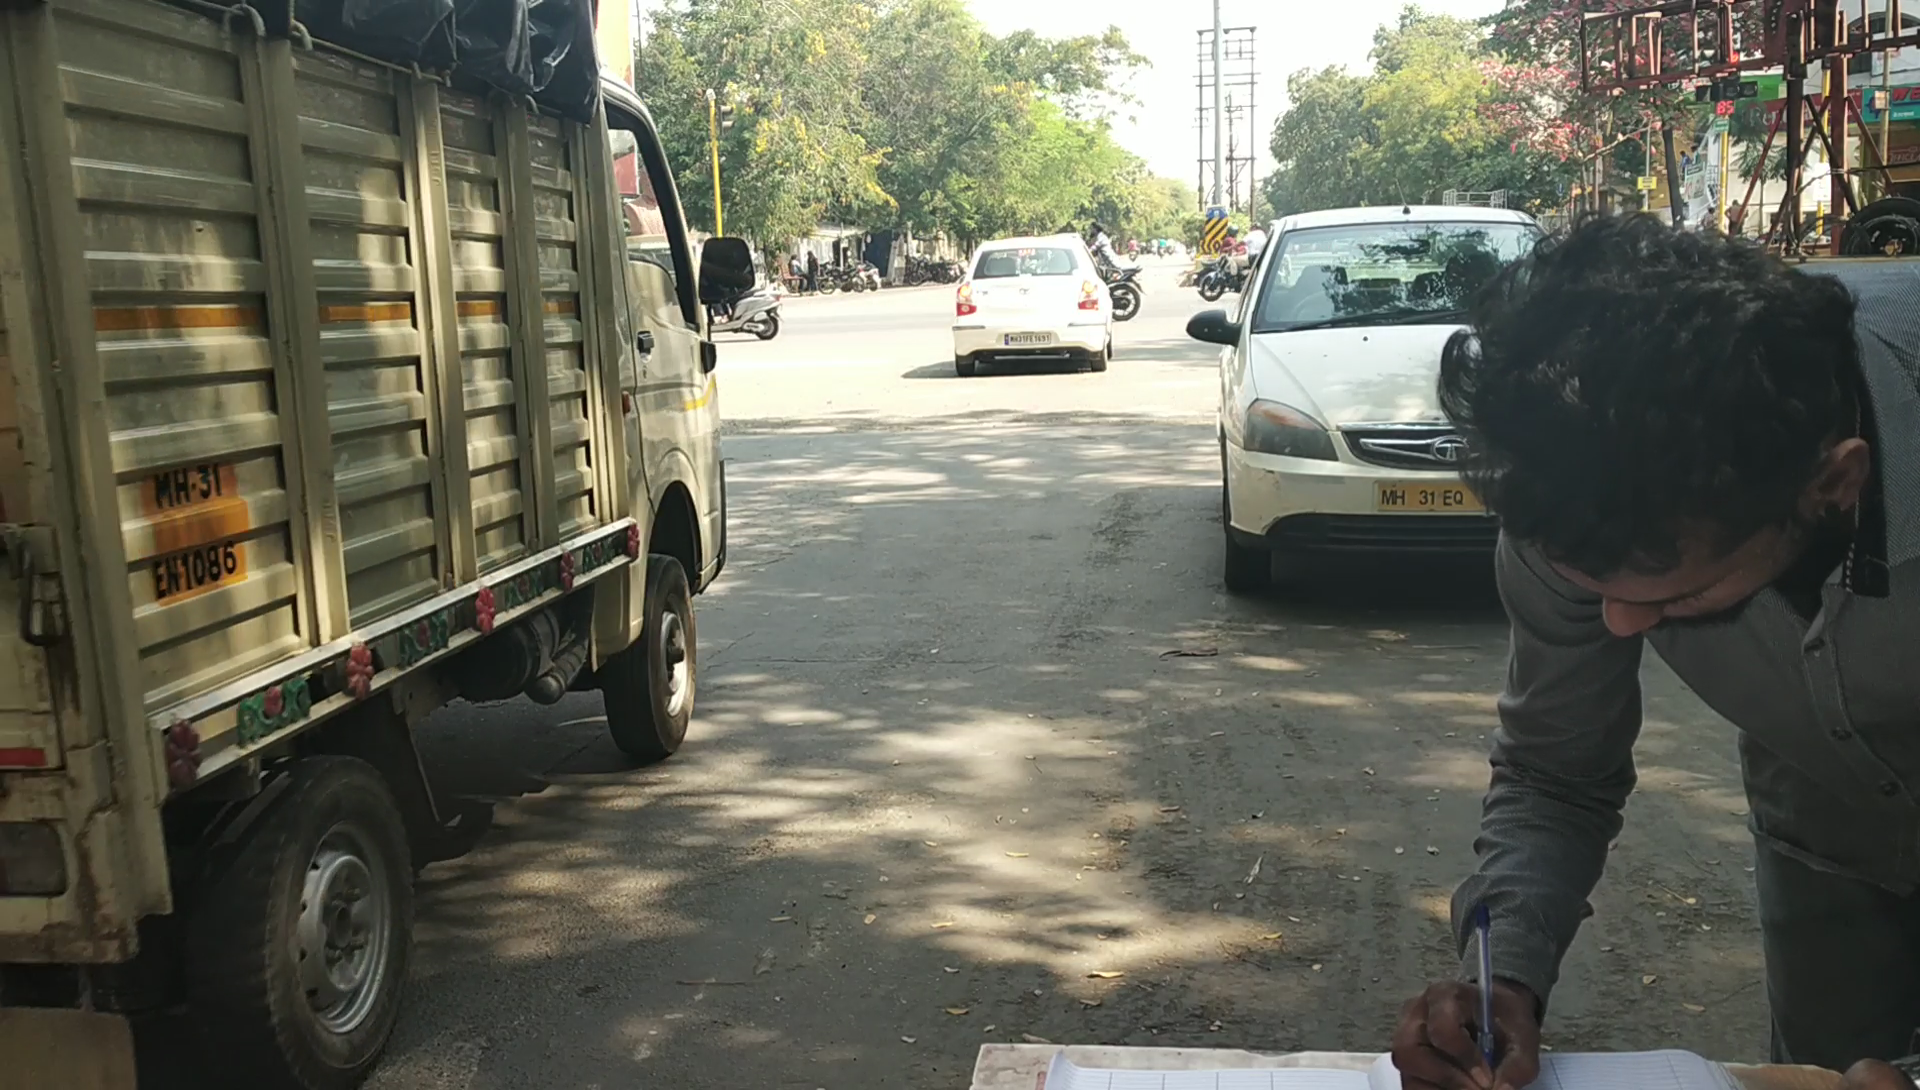car: (3, 1, 767, 1090)
numplate: (124, 444, 266, 623)
